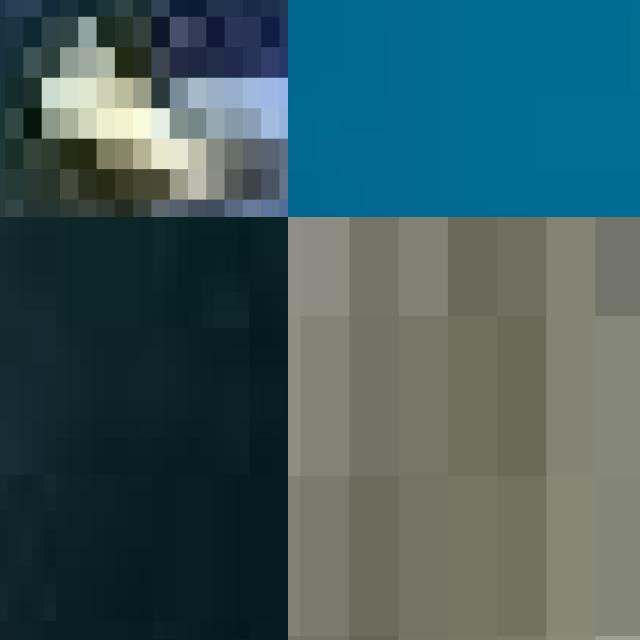fish: (288, 217, 640, 640), (0, 217, 288, 640), (0, 0, 288, 217)
